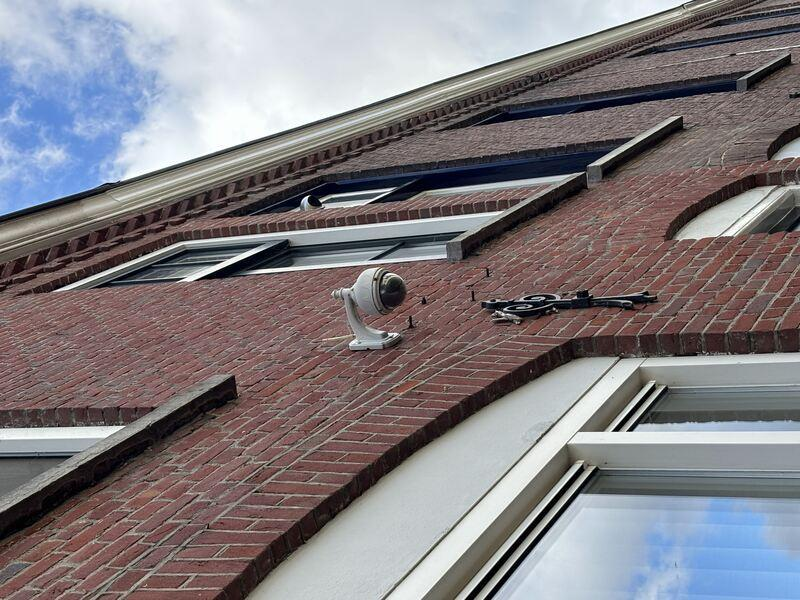dome: (271, 337, 336, 416)
